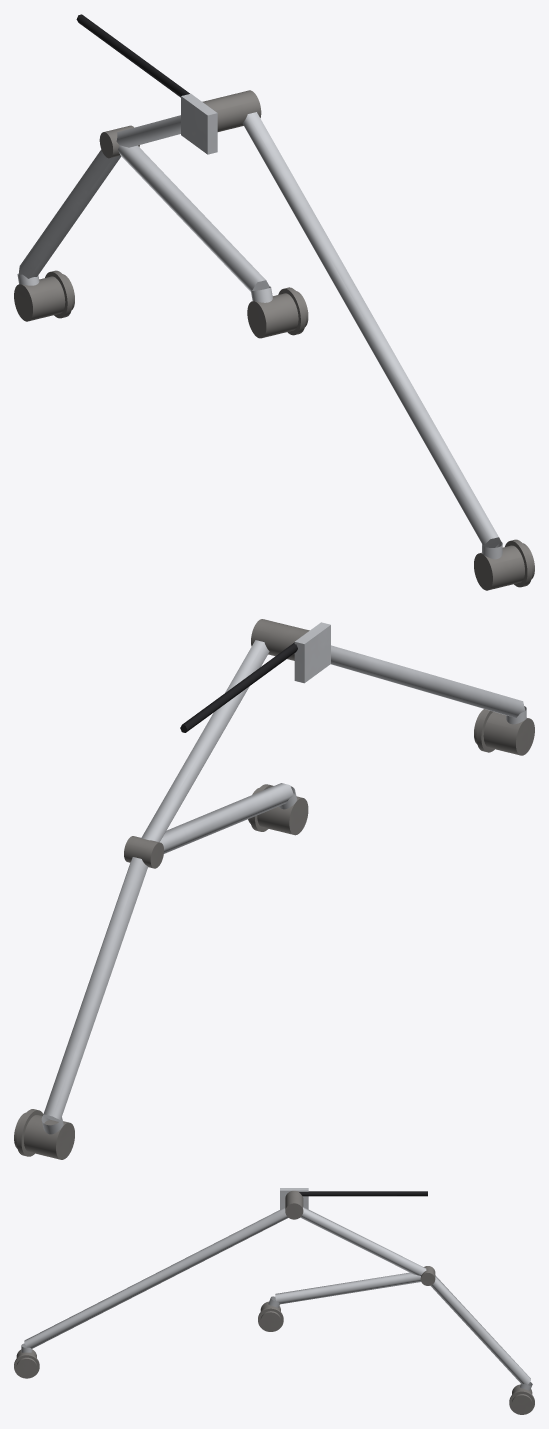
File: rover16_rocker_bogie_m_susp_up.glb
3 views of the same model, one above another, from view 1: azimuth 30°, elevation 25°; view 2: azimuth 150°, elevation 25°; view 3: azimuth 270°, elevation 25° (orthographic). The views are drawn at different scales.
Visible parts, largest first — view 1: rocker, bogie_beam, bogie_flange_3, bogie_flange_2, wheel_flange_1, mount_plate, pivot, differential_link; view 2: bogie_beam, rocker, bogie_flange_3, wheel_flange_1, mount_plate, bogie_flange_2, differential_link, pivot, bogie_pivot; view 3: rocker, bogie_beam, differential_link, wheel_flange_1, bogie_flange_3, bogie_flange_2, pivot, mount_plate.
Part boxes in pixels (x1,y1,x2,y2): rocker: [116, 112, 502, 559]; bogie_beam: [17, 145, 272, 302]; bogie_flange_3: [14, 270, 74, 321]; bogie_flange_2: [247, 287, 308, 338]; wheel_flange_1: [474, 539, 534, 590]; mount_plate: [181, 93, 217, 154]; pivot: [202, 90, 261, 131]; differential_link: [76, 14, 189, 97]; bogie_beam: [41, 783, 297, 1134]; rocker: [141, 640, 526, 842]; bogie_flange_3: [14, 1109, 74, 1159]; wheel_flange_1: [474, 709, 534, 755]; mount_plate: [294, 622, 330, 683]; bogie_flange_2: [248, 784, 308, 835]; differential_link: [180, 642, 297, 732]; pivot: [251, 619, 309, 660]; bogie_pivot: [124, 836, 163, 868]; rocker: [21, 1207, 426, 1352]; bogie_beam: [268, 1272, 532, 1390]; differential_link: [299, 1191, 427, 1196]; wheel_flange_1: [14, 1349, 39, 1378]; bogie_flange_3: [509, 1384, 534, 1414]; bogie_flange_2: [258, 1301, 283, 1331]; pivot: [285, 1190, 303, 1219]; mount_plate: [280, 1188, 308, 1209].
Size of the model in its own units: 0.25 by 1.11 by 2.53.
3 materials, 2 textured.
